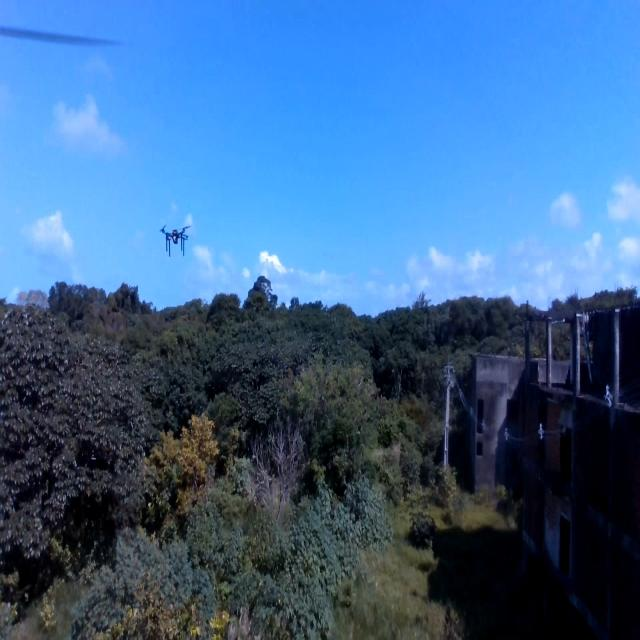-uav-: (148, 215, 200, 264)
